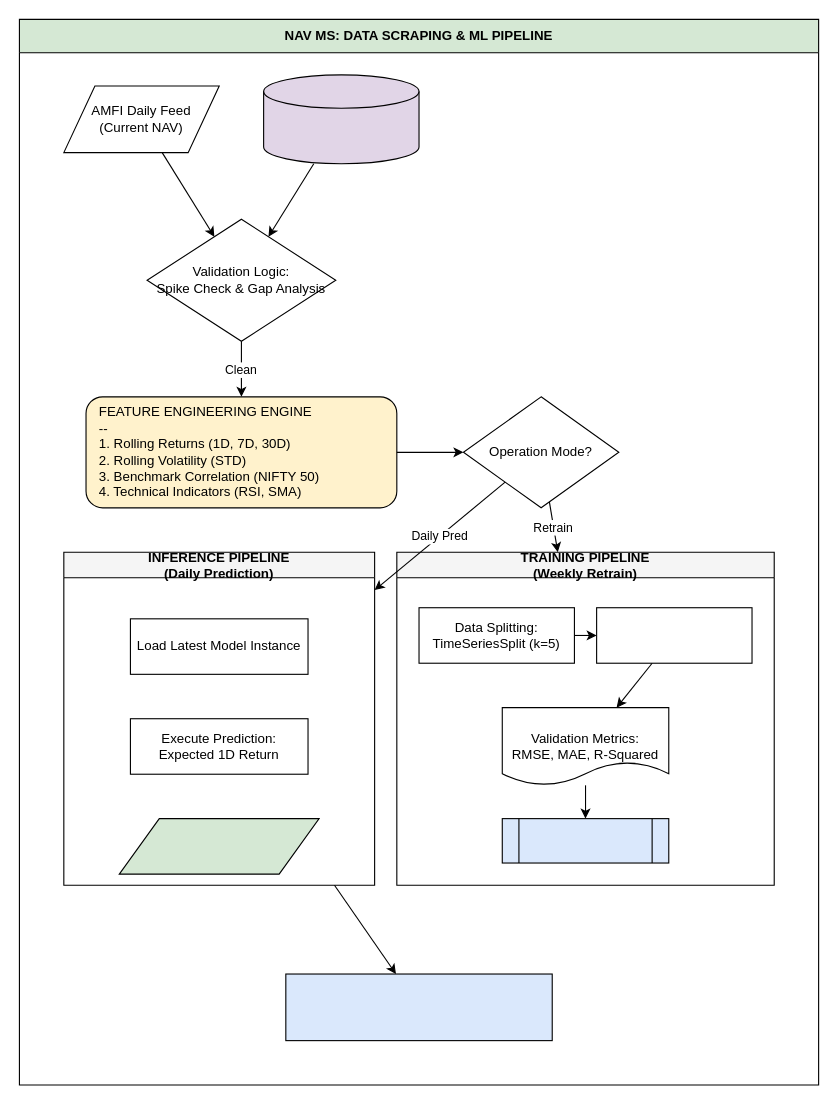
Image size: 838x1104. Some labels were removed from this diagram. The centre of each missing label's shape, as x and y in pixels:
ADVISOR DASHBOARD: Technical Metric Stream: pixel 418 1007
Model Registry: Save .joblib / .pkl: pixel 585 840
MongoDB (5-Year Historical NAV): pixel 341 119
Output JSON: Predicted NAV & Risk Score: pixel 218 846
Random Forest Fit: n_estimators=500 max_depth=20: pixel 674 635
